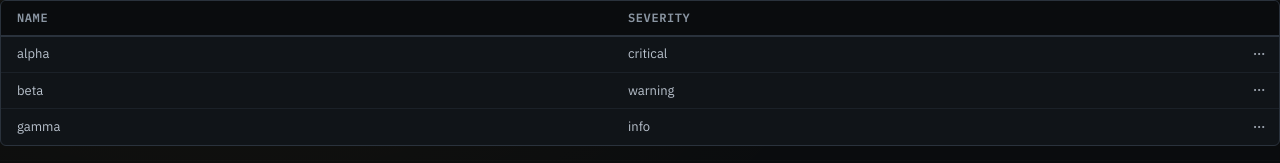
Test: DataTable › context menu › shows a right-click menu containing exactly 'View details' when renderDetails is set but contextMenuItems is omitted
Right-click the text "alpha" at x=33, y=54, box [17,45,49,62]
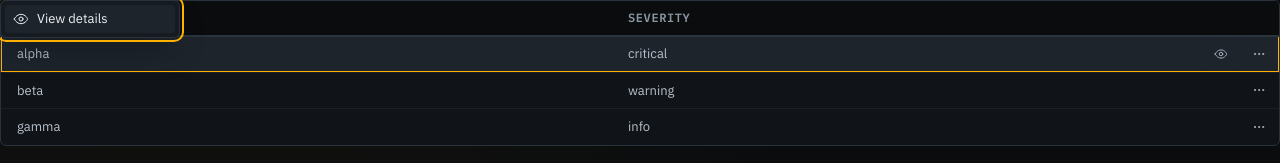
Expected: the number of menu items is 1, [5,5,175,32]
Expected: the menu item reads "View details", [5,5,175,32]
